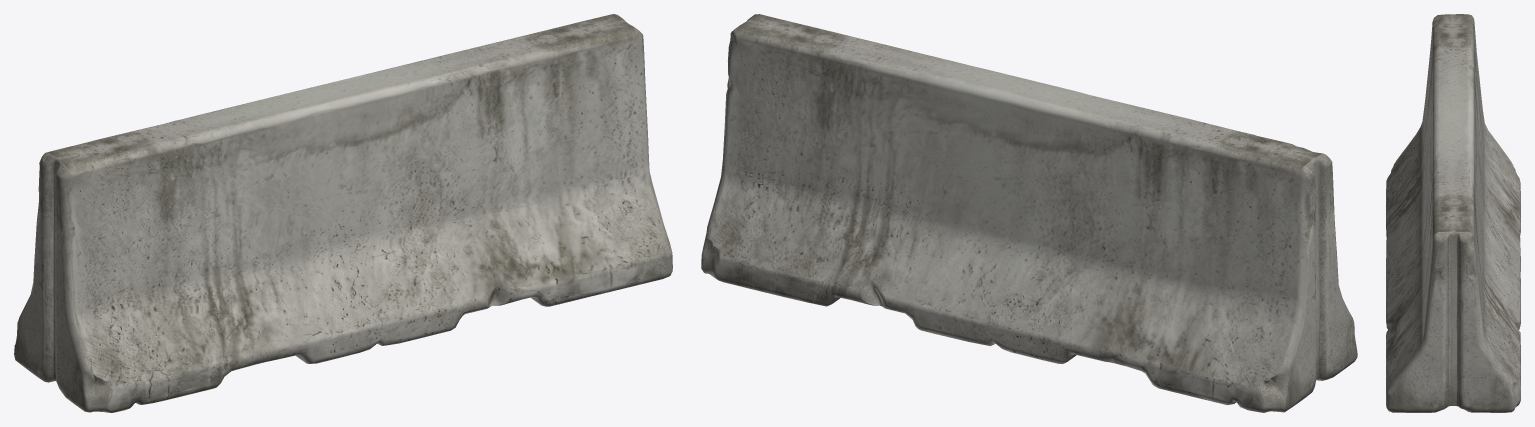
The model's file is barriere.glb.
3 views of the same model, side by side, from view 1: azimuth 30°, elevation 25°; view 2: azimuth 150°, elevation 25°; view 3: azimuth 270°, elevation 25° (orthographic). The views are drawn at different scales.
Size of the model in its own units: 1.9 by 0.7142 by 0.4828.
Materials: 1 (1 with a texture image).
